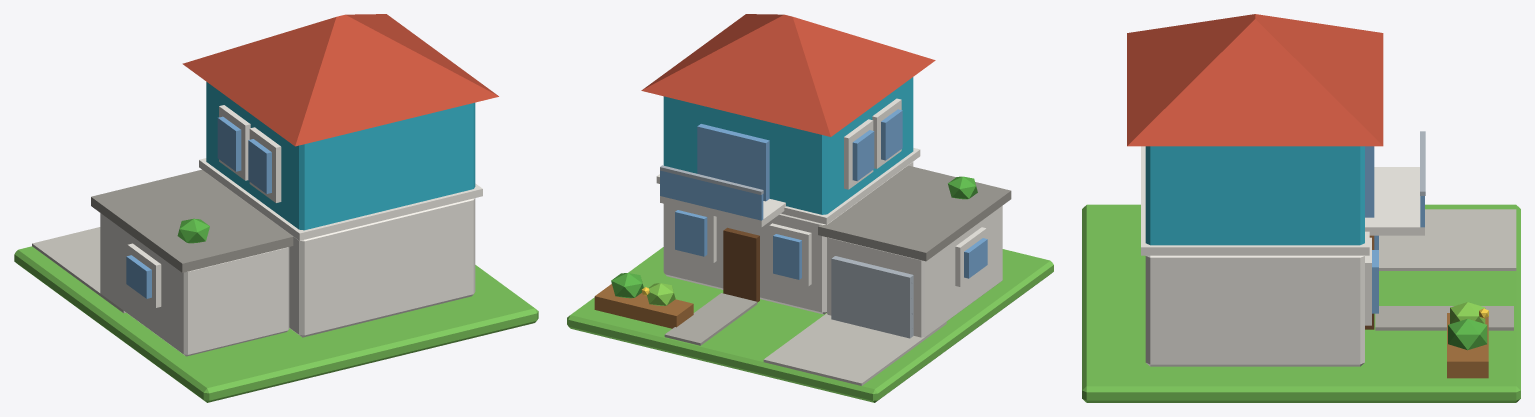
Rendered from casa_sobrado.glb.
The picture shows the model from 3 angles, left to right: view 1: azimuth 30°, elevation 25°; view 2: azimuth 150°, elevation 25°; view 3: azimuth 270°, elevation 25°; orthographic projection. The views are drawn at different scales.
Visible parts, largest first — view 1: corpo; view 2: corpo; view 3: corpo.
Part boxes in pixels (box(x1,y1,x2,y2)): corpo: box(14, 14, 538, 402); corpo: box(567, 14, 1053, 402); corpo: box(1082, 14, 1520, 402).
Bounding box in the file's own units: 1.9 × 1.53 × 1.9.
